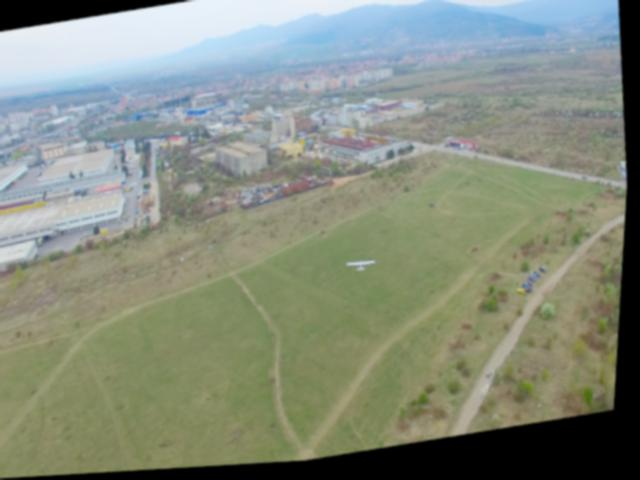plane: (349, 260, 379, 279)
